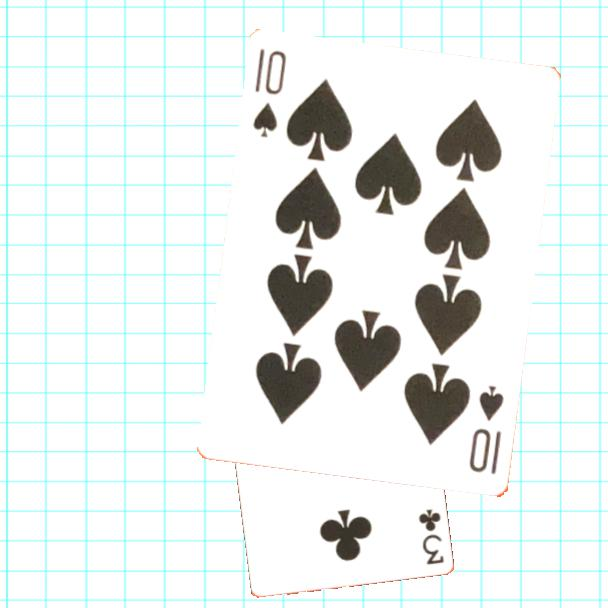c03: (415, 505, 446, 567)
s10: (466, 382, 507, 478), (250, 45, 290, 141)
